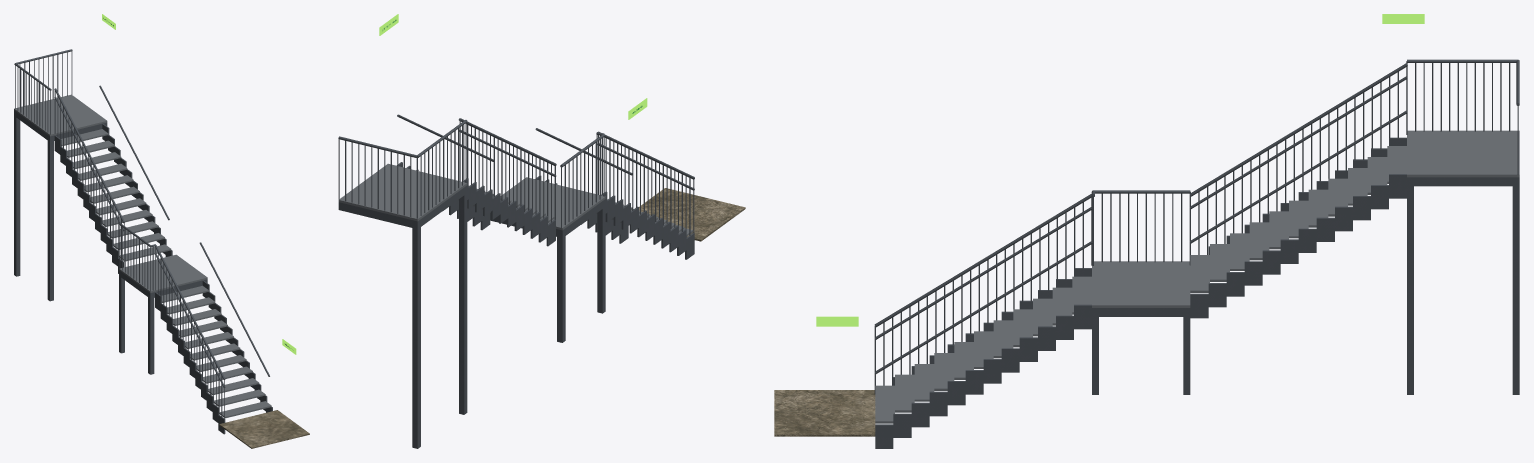
Rendered from 25_n2_escalera_exterior.glb.
The picture shows the model from 3 angles, left to right: view 1: azimuth 30°, elevation 25°; view 2: azimuth 150°, elevation 25°; view 3: azimuth 270°, elevation 25°; orthographic projection. The views are drawn at different scales.
Visible parts, largest first — view 1: escalera exterior de emergencia · fachada poniente; view 2: escalera exterior de emergencia · fachada poniente; view 3: escalera exterior de emergencia · fachada poniente.
Part boxes in pixels (x1,y1,x2,y2): escalera exterior de emergencia · fachada poniente: (14,49,309,448); escalera exterior de emergencia · fachada poniente: (338,114,745,448); escalera exterior de emergencia · fachada poniente: (774,59,1519,448).
Bounding box in the file's own units: 1.5 × 6.88 × 10.6.
5 materials, 2 textured.
